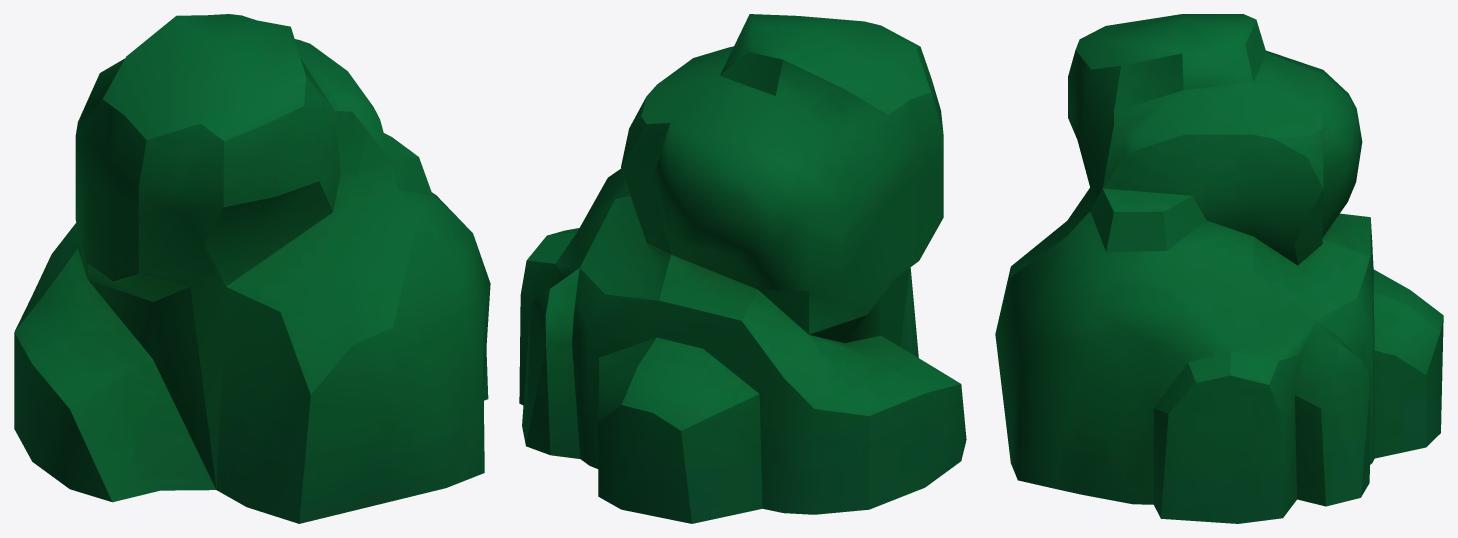
Rendered from FOL_Foliage_07.obj.
3 renders of one model, left to right at view 1: azimuth 30°, elevation 25°; view 2: azimuth 150°, elevation 25°; view 3: azimuth 270°, elevation 25°, orthographic. The views are drawn at different scales.
Parts seen in each view (by area): view 1: FOL_Foliage_07; view 2: FOL_Foliage_07; view 3: FOL_Foliage_07.
Boxes of the visible parts, x1,y1,x2,y2 form: FOL_Foliage_07: (14, 14, 490, 523); FOL_Foliage_07: (519, 14, 966, 523); FOL_Foliage_07: (995, 14, 1443, 523).
Size of the model in its own units: 3.48 by 3.28 by 3.49.
1 material, 1 textured.
